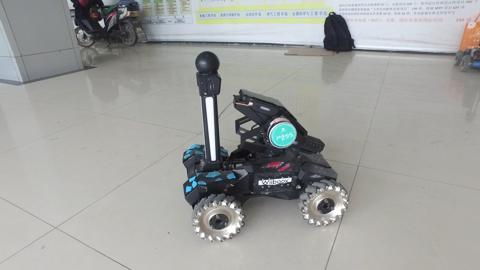bag: (320, 9, 358, 54)
chariot: (181, 50, 350, 242)
